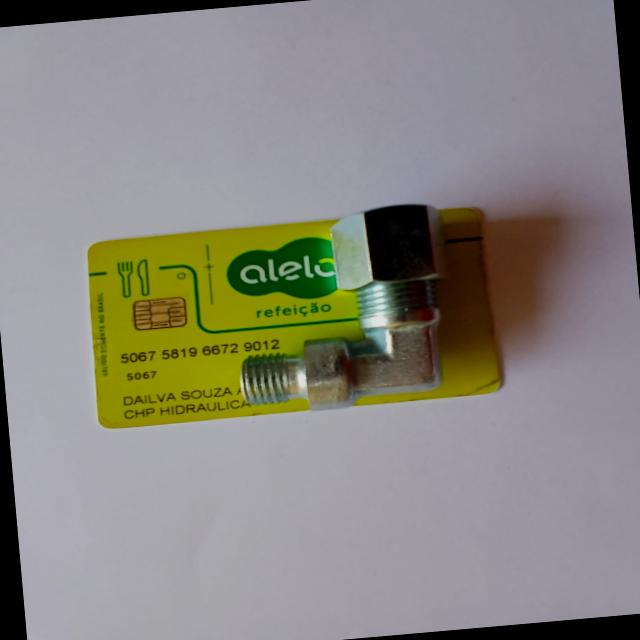cartao: (85, 200, 504, 426)
rosca_externa: (226, 202, 460, 416)
